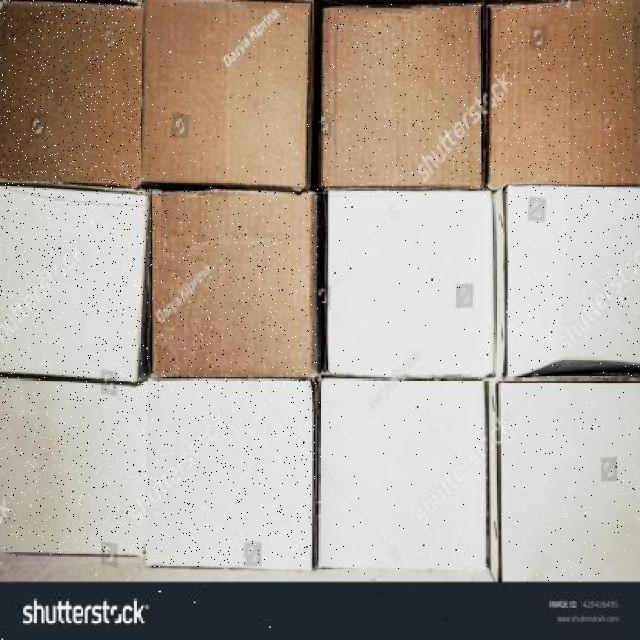BoxFace: (318, 373, 487, 576), (144, 377, 316, 568), (150, 189, 319, 383), (142, 0, 310, 189), (328, 185, 496, 373), (0, 184, 149, 384), (323, 3, 483, 189), (487, 0, 640, 184), (0, 0, 146, 192), (501, 386, 640, 583), (0, 378, 148, 556), (506, 186, 640, 380)
